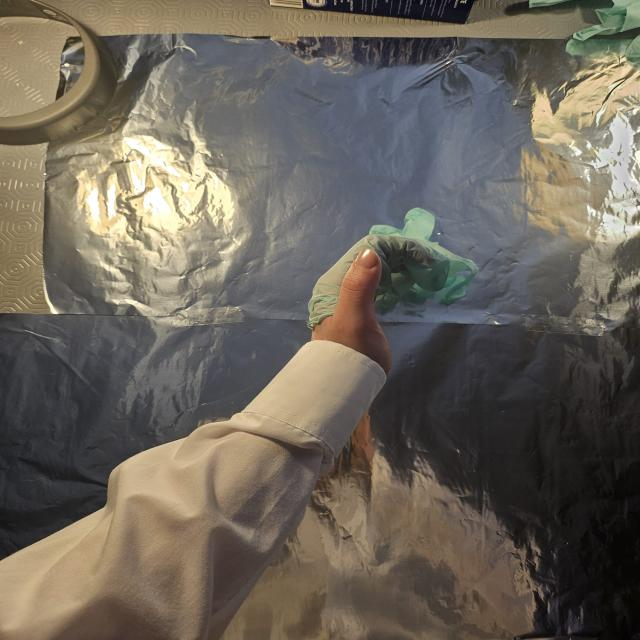glove_partial: (305, 206, 479, 374)
